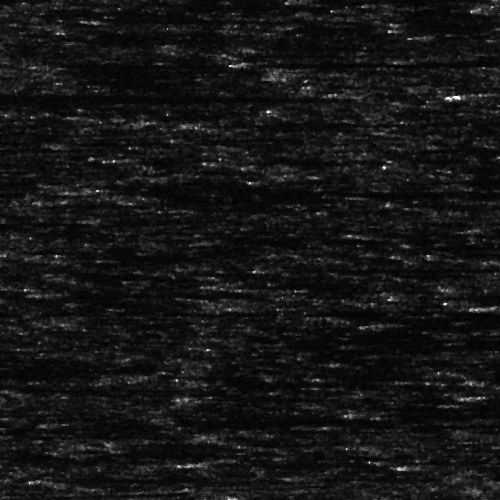object: (330, 402, 423, 419), (391, 86, 500, 95), (232, 261, 315, 272), (37, 282, 78, 301), (210, 56, 273, 65), (74, 184, 95, 191), (69, 17, 110, 20), (177, 395, 208, 398)
shadow: (57, 282, 294, 301), (0, 89, 266, 104), (274, 261, 500, 272), (241, 56, 493, 65), (84, 184, 399, 191), (377, 402, 500, 419), (90, 17, 254, 20), (458, 86, 500, 95), (193, 395, 272, 398)
